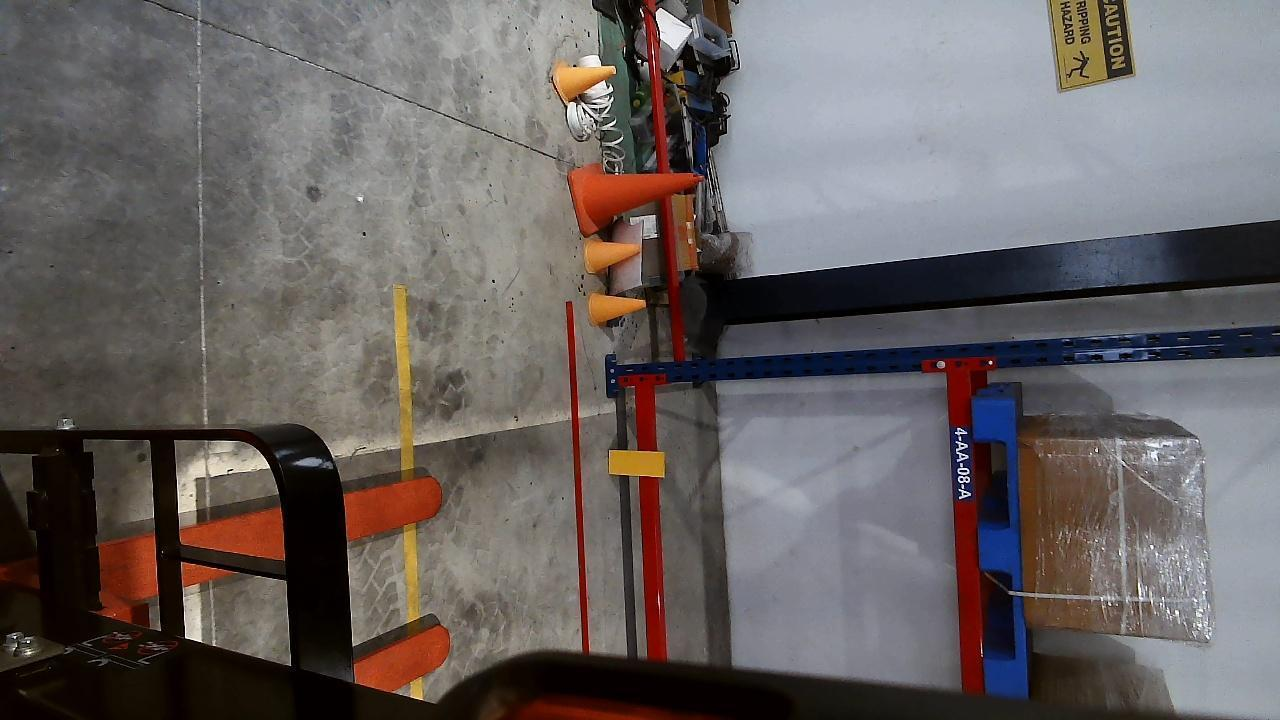red_line: (563, 301, 592, 659)
yellow_line: (387, 280, 430, 695)
